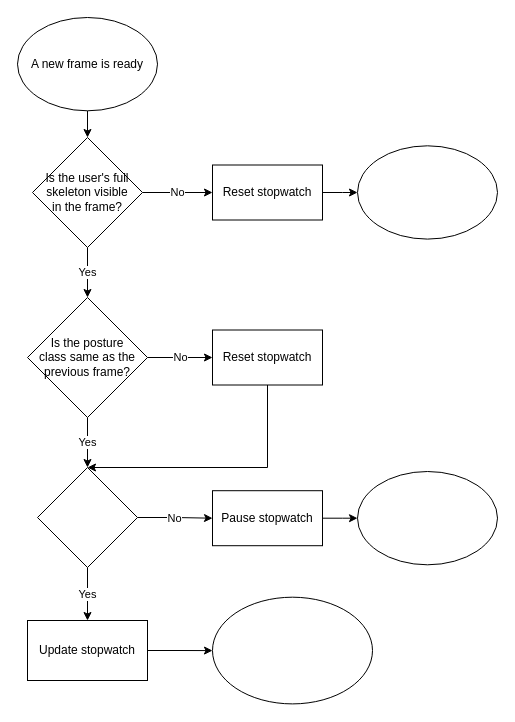
The diagram is 515 pixels wide and 722 high, and some of its shapes have lost their labels. The centre of each missing label's shape, as x and y in pixels:
Display warning: "MAKE SURE YOUR FULL BODY IS IN VIEW" (in red): pixel 427 192
Display: posture class, correctness, and stopwatch time (in green): pixel 292 650
Display: posture class, correctness, and stopwatch time (in red): pixel 427 517
Is the posture correct?: pixel 87 517
